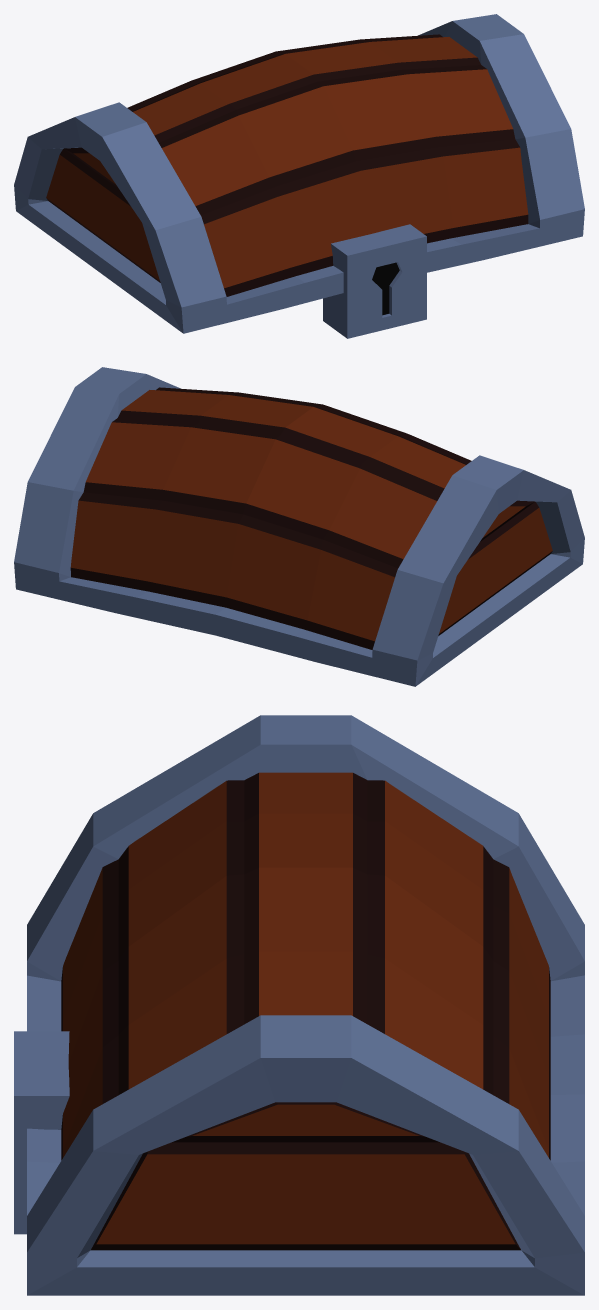
The model's file is GoalChest_Lid.obj.
3 views of the same model, one above another, from view 1: azimuth 30°, elevation 25°; view 2: azimuth 150°, elevation 25°; view 3: azimuth 270°, elevation 25° (orthographic). The views are drawn at different scales.
Parts seen in each view (by area): view 1: EXPORT_GoalChest_Lid; view 2: EXPORT_GoalChest_Lid; view 3: EXPORT_GoalChest_Lid.
Part boxes in pixels (box(x1,y1,x2,y2)): EXPORT_GoalChest_Lid: box(14, 14, 584, 338); EXPORT_GoalChest_Lid: box(14, 367, 584, 686); EXPORT_GoalChest_Lid: box(14, 715, 584, 1295).
Bounding box in the file's own units: 1.35 × 0.6162 × 0.9539.
